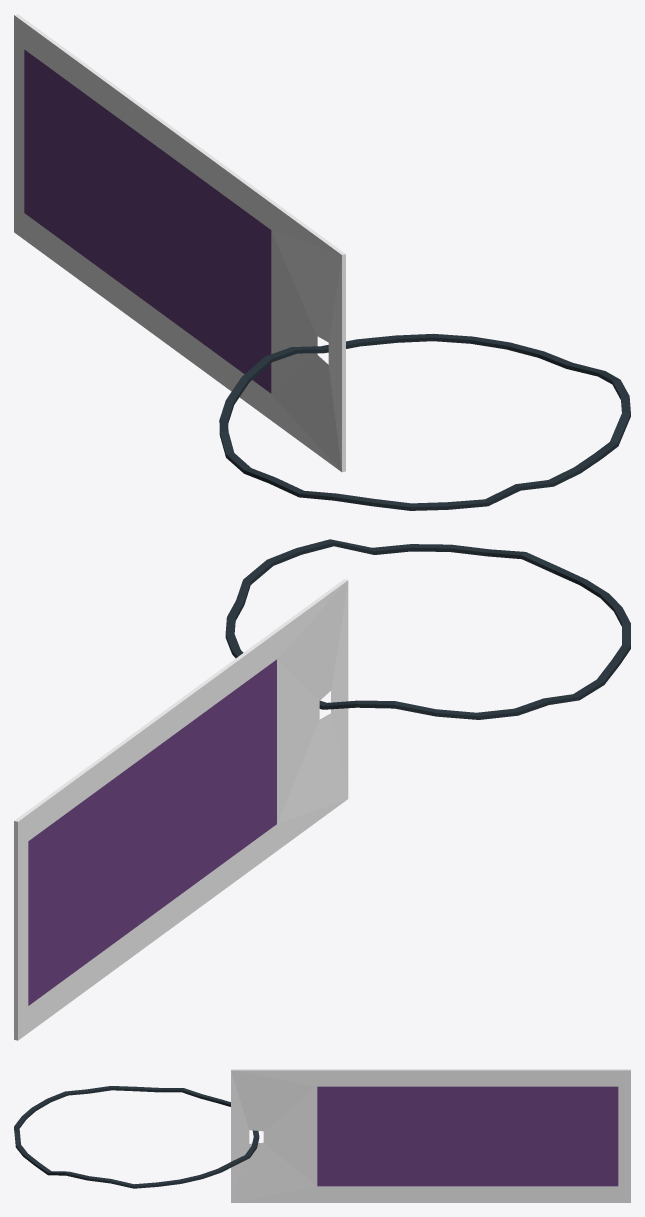
The model's file is PurpleRectangleTag.fbx.
The picture shows the model from 3 angles, top to bottom: view 1: azimuth 30°, elevation 25°; view 2: azimuth 150°, elevation 25°; view 3: azimuth 270°, elevation 25°; orthographic projection. The views are drawn at different scales.
Visible parts, largest first — view 1: RectangleTag.001; view 2: RectangleTag.001; view 3: RectangleTag.001.
Part boxes in pixels (x1=…): RectangleTag.001: x1=14, y1=14, x2=630, y2=510; RectangleTag.001: x1=14, y1=539, x2=630, y2=1040; RectangleTag.001: x1=14, y1=1069, x2=630, y2=1202.
Size of the model in its own units: 55.34 by 31.91 by 135.
